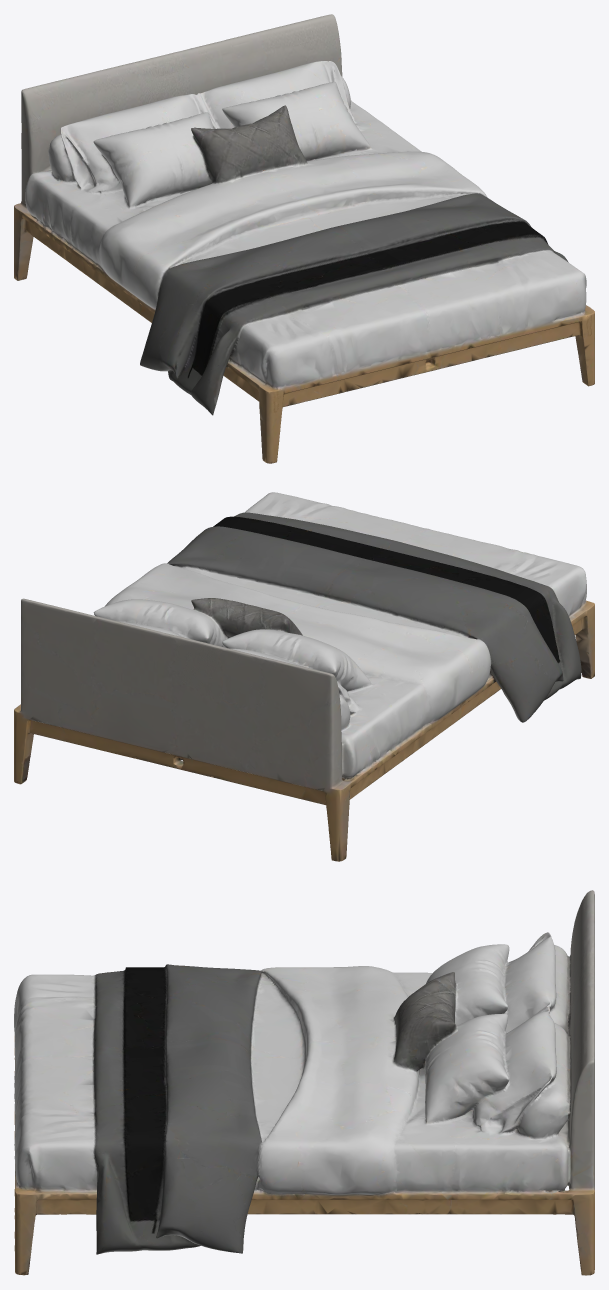
File: right-bed.glb
3 views of the same model, one above another, from view 1: azimuth 30°, elevation 25°; view 2: azimuth 150°, elevation 25°; view 3: azimuth 270°, elevation 25° (orthographic). The views are drawn at different scales.
Visible parts, largest first — view 1: Meshy_AI_Serene_Minimalist_Bed_20261119_texture; view 2: Meshy_AI_Serene_Minimalist_Bed_20261119_texture; view 3: Meshy_AI_Serene_Minimalist_Bed_20261119_texture.
Part boxes in pixels (bbox=[...]): Meshy_AI_Serene_Minimalist_Bed_20261119_texture: bbox=[14, 14, 594, 463]; Meshy_AI_Serene_Minimalist_Bed_20261119_texture: bbox=[14, 492, 594, 861]; Meshy_AI_Serene_Minimalist_Bed_20261119_texture: bbox=[14, 890, 594, 1275].
Bounding box in the file's own units: 1.91 × 0.8599 × 2.16.
Materials: 1 (1 with a texture image).
